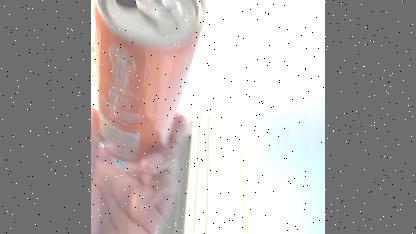Can: (91, 0, 210, 177)
